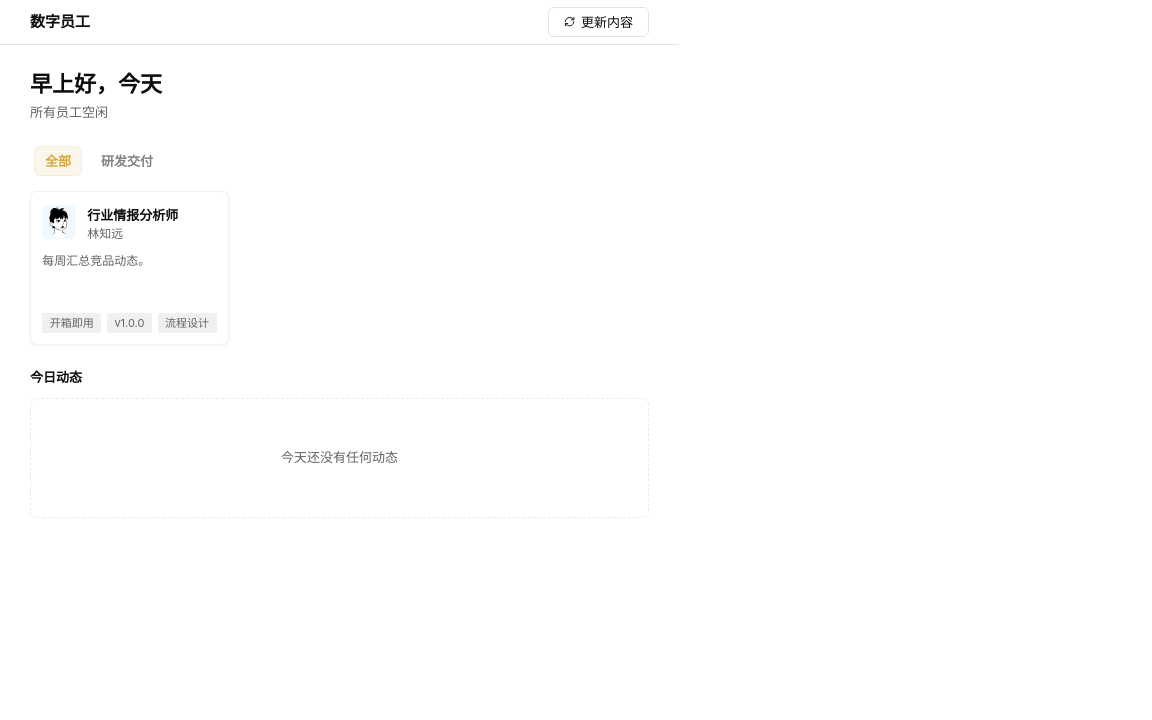
Test case: EmployeesPage › renders employee detail as a refined profile modal
This screenshot has width=1152, height=720.
Click the button with aria-label "查看 林知远 详情": {"x": 129, "y": 268} [30,191,229,345]
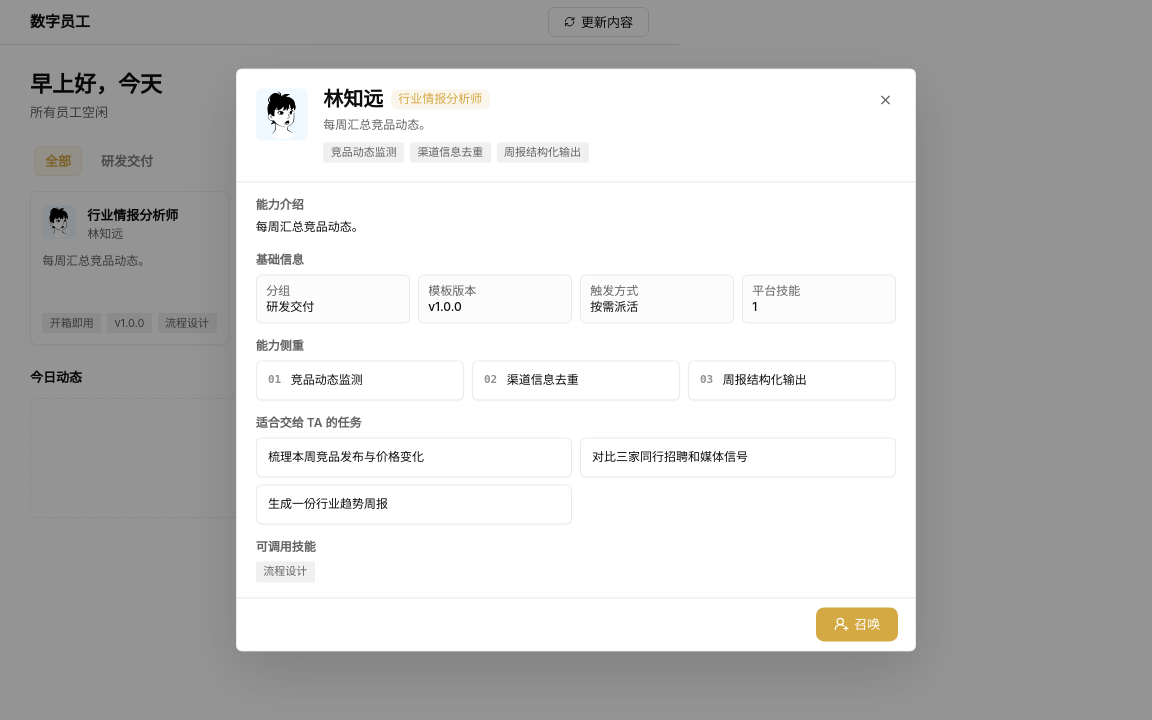
Now the heading "基础信息" is shown, box [256,252,304,267]
Now the text "分组" is shown, box [266,283,290,298]
Now the text "模板版本" is shown, box [428,283,476,298]
